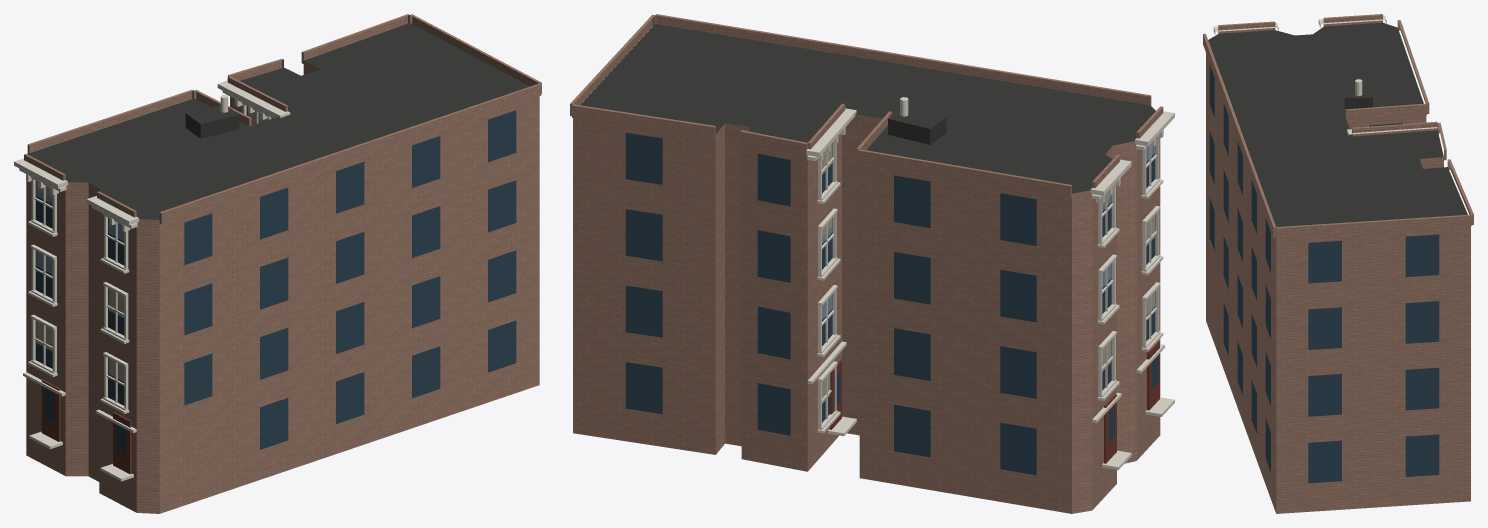
The picture shows the model from 3 angles, left to right: view 1: azimuth 30°, elevation 25°; view 2: azimuth 150°, elevation 25°; view 3: azimuth 270°, elevation 25°; orthographic projection. The views are drawn at different scales.
Parts seen in each view (by area): view 1: Footprint 0 / surface 2, Footprint 0 / surface 1, Inset glazing, Facade bay volumes, Cornices and window frames, Storefronts and doors, Interior blind variation, Inferred rooftop service enclosure / surface 5; view 2: Footprint 0 / surface 2, Footprint 0 / surface 1, Inset glazing, Facade bay volumes, Cornices and window frames, Storefronts and doors, Interior blind variation, Inferred rooftop service enclosure / surface 6; view 3: Footprint 0 / surface 2, Footprint 0 / surface 1, Inset glazing, Facade bay volumes, Cornices and window frames, Inferred rooftop service enclosure / surface 3, Inferred rooftop service enclosure / surface 1.
Boxes of the visible parts, bbox=[...] form: Footprint 0 / surface 2: bbox=[26, 61, 539, 513]; Footprint 0 / surface 1: bbox=[29, 23, 529, 219]; Inset glazing: bbox=[35, 106, 516, 455]; Facade bay volumes: bbox=[24, 14, 541, 224]; Cornices and window frames: bbox=[14, 80, 290, 481]; Storefronts and doors: bbox=[41, 379, 131, 474]; Interior blind variation: bbox=[36, 110, 267, 381]; Inferred rooftop service enclosure / surface 5: bbox=[200, 115, 239, 138]; Footprint 0 / surface 2: bbox=[573, 114, 1160, 513]; Footprint 0 / surface 1: bbox=[580, 24, 1155, 193]; Inset glazing: bbox=[625, 133, 1158, 475]; Facade bay volumes: bbox=[570, 14, 1163, 198]; Cornices and window frames: bbox=[806, 108, 1174, 470]; Storefronts and doors: bbox=[829, 341, 1159, 463]; Interior blind variation: bbox=[822, 143, 1154, 403]; Inferred rooftop service enclosure / surface 6: bbox=[888, 119, 929, 144]; Footprint 0 / surface 2: bbox=[1206, 53, 1470, 513]; Footprint 0 / surface 1: bbox=[1208, 22, 1467, 226]; Inset glazing: bbox=[1209, 64, 1439, 483]; Facade bay volumes: bbox=[1203, 14, 1473, 238]; Cornices and window frames: bbox=[1213, 15, 1438, 135]; Inferred rooftop service enclosure / surface 3: bbox=[1344, 80, 1372, 97]; Inferred rooftop service enclosure / surface 1: bbox=[1344, 98, 1372, 111].
Bounding box in the file's own units: 21.92 × 14.37 × 11.48.
